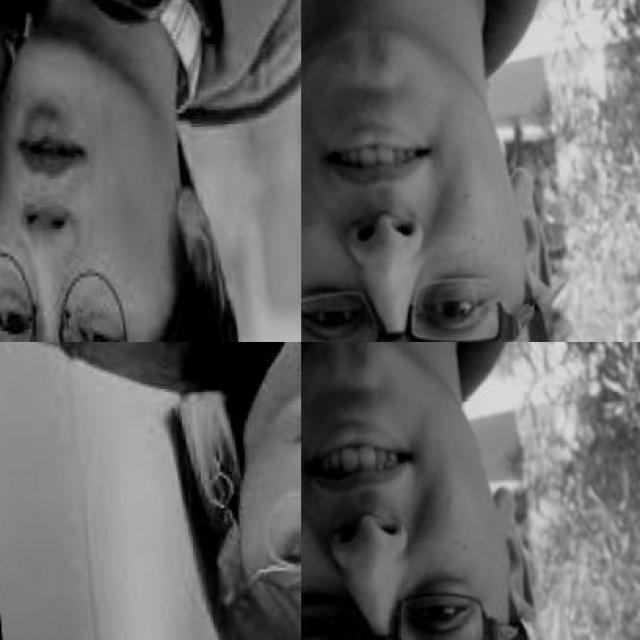Glasses: (196, 455, 300, 626), (301, 270, 552, 340), (301, 574, 538, 640), (0, 237, 151, 340)
